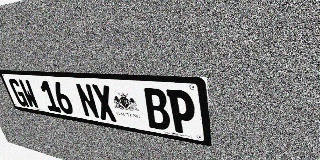1: (37, 80, 61, 113)
6: (50, 81, 75, 115)
B: (142, 88, 171, 131)
G: (7, 78, 29, 107)
N: (74, 83, 101, 119)
P: (166, 89, 197, 136)
W: (18, 79, 40, 109)
X: (91, 84, 118, 122)
